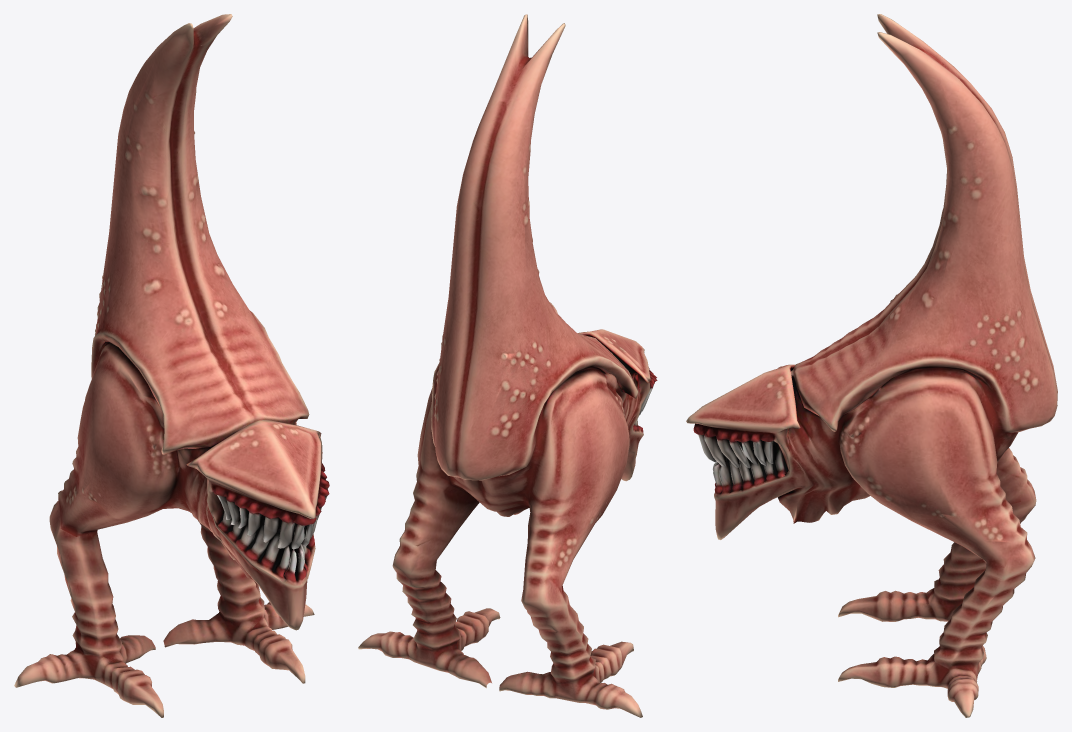
The model's file is MZ4250 - Abyssal Chicken.glb.
3 views of the same model, side by side, from view 1: azimuth 30°, elevation 25°; view 2: azimuth 150°, elevation 25°; view 3: azimuth 270°, elevation 25° (orthographic). The views are drawn at different scales.
Parts seen in each view (by area): view 1: body_low.001; view 2: body_low.001; view 3: body_low.001.
Part boxes in pixels (x1,y1,x2,y2): body_low.001: [14, 14, 329, 717]; body_low.001: [358, 14, 657, 717]; body_low.001: [686, 14, 1057, 717].
Size of the model in its own units: 2.14 by 4.57 by 2.45.
1 material, 1 textured.
